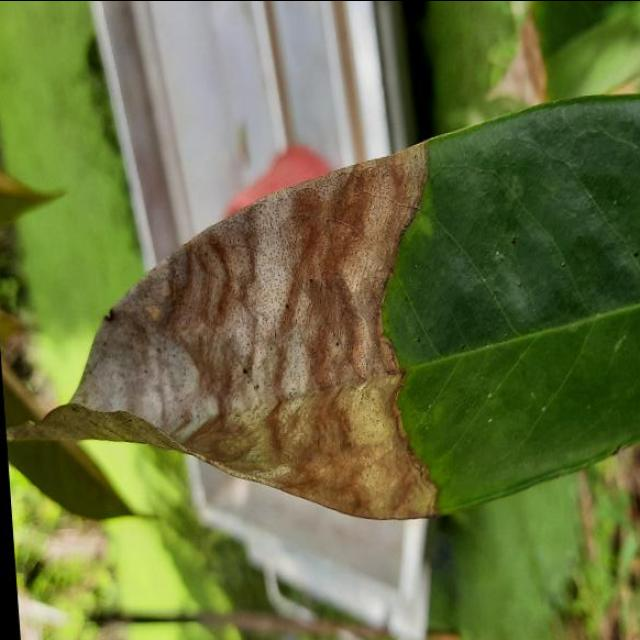Leaf Blight: (0, 77, 640, 552)
